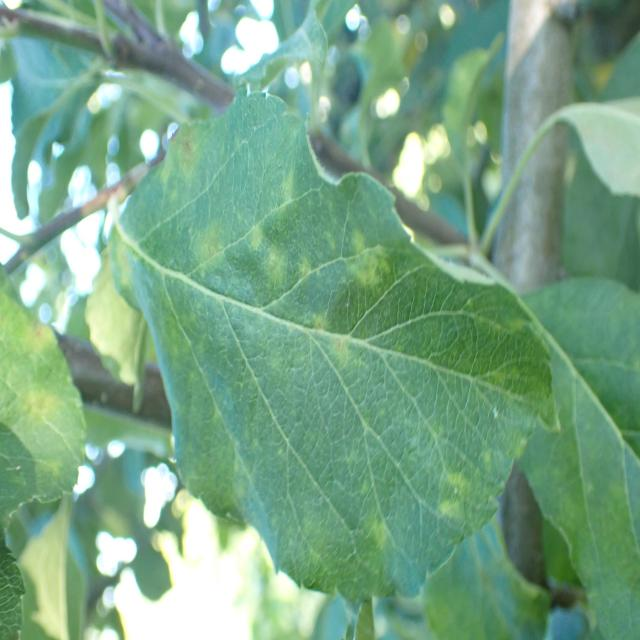scab: (129, 94, 546, 566)
